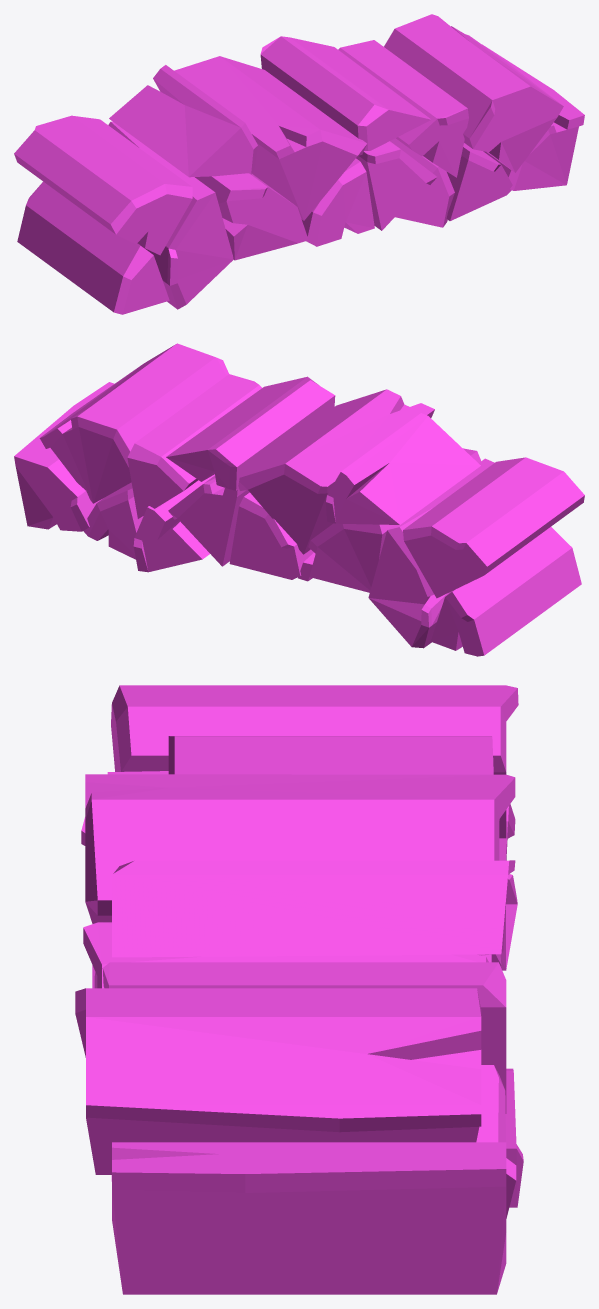
The model's file is SM_Wood_Pile_Wall_Middle_Fantasy.fbx.
3 views of the same model, one above another, from view 1: azimuth 30°, elevation 25°; view 2: azimuth 150°, elevation 25°; view 3: azimuth 270°, elevation 25° (orthographic). The views are drawn at different scales.
Visible parts, largest first — view 1: SM_Wood_Pile_Wall_Middle_Fantasy; view 2: SM_Wood_Pile_Wall_Middle_Fantasy; view 3: SM_Wood_Pile_Wall_Middle_Fantasy.
Boxes of the visible parts, x1=… form: SM_Wood_Pile_Wall_Middle_Fantasy: x1=14, y1=14, x2=584, y2=314; SM_Wood_Pile_Wall_Middle_Fantasy: x1=14, y1=343, x2=584, y2=656; SM_Wood_Pile_Wall_Middle_Fantasy: x1=75, y1=685, x2=523, y2=1294.
Bounding box in the file's own units: 1.33 × 0.4175 × 0.5436.
